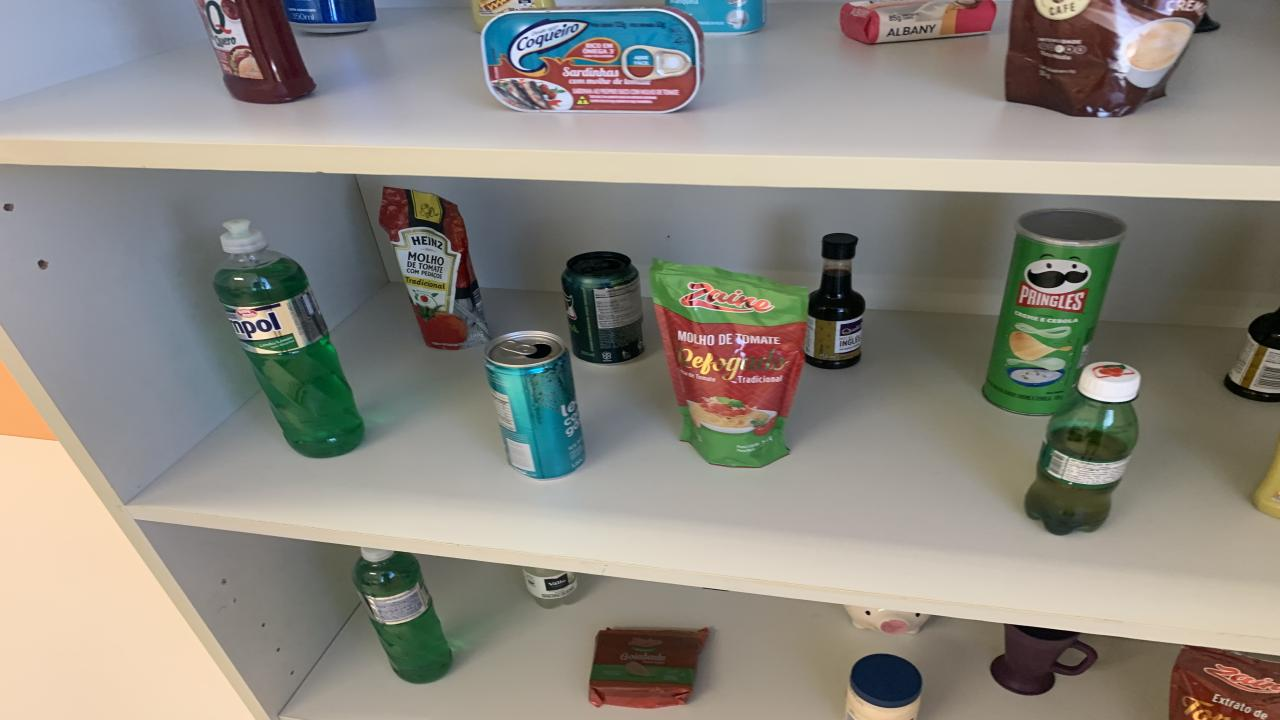Cleaner-Cleanup_Items: (665, 0, 765, 36)
Coffee-Pantry_Items: (1005, 0, 1208, 116)
Detergent-Cleanup_Items: (215, 219, 362, 456), (352, 548, 452, 682)
English_Sauce-Pantry_Items: (805, 232, 865, 369), (1222, 309, 1280, 403)
Guarana-Drinks: (1025, 362, 1140, 534)
Guarana_Can-Drinks: (562, 251, 645, 364)
Guava-Snacks: (590, 628, 710, 709)
Ketchup-Pantry_Items: (195, 0, 315, 103)
Mayonnaise-Pantry_Items: (845, 654, 922, 720)
Mustard-Pantry_Items: (470, 0, 555, 32), (1252, 439, 1280, 518)
Pig_Safe-Miscellaneous: (845, 606, 930, 634)
Pringles-Snacks: (982, 208, 1128, 414)
Soap-Cleanup_Items: (840, 0, 998, 43)
Soda-Drinks: (522, 566, 578, 608)
Tea-Drinks: (485, 330, 585, 478)
Tomato_Sauce-Pantry_Items: (650, 261, 808, 467), (380, 188, 490, 349), (1170, 645, 1280, 720)
Tonic-Drinks: (282, 0, 378, 34)
Tuna_Can-Pantry_Items: (480, 8, 705, 112)
